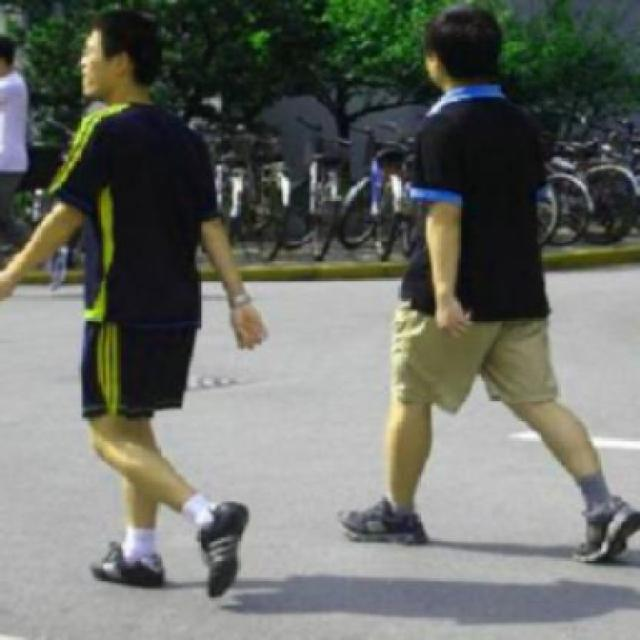Person: (338, 0, 638, 583), (0, 5, 271, 609)
